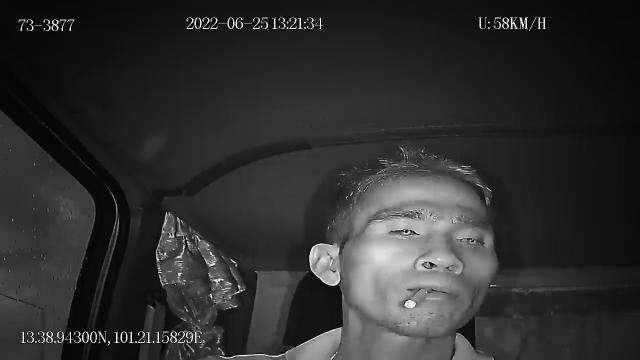SafeDriving: (381, 218, 428, 243), (448, 226, 492, 250)
Smoking: (404, 288, 431, 310)
